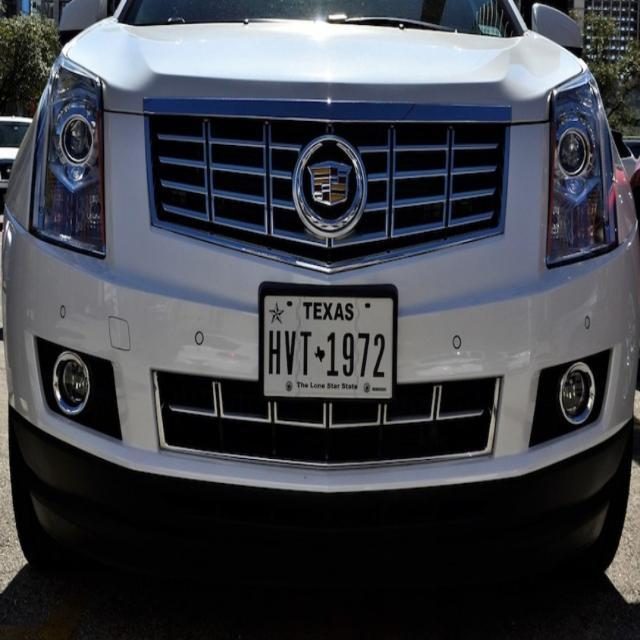license_plate: (262, 290, 394, 400)
